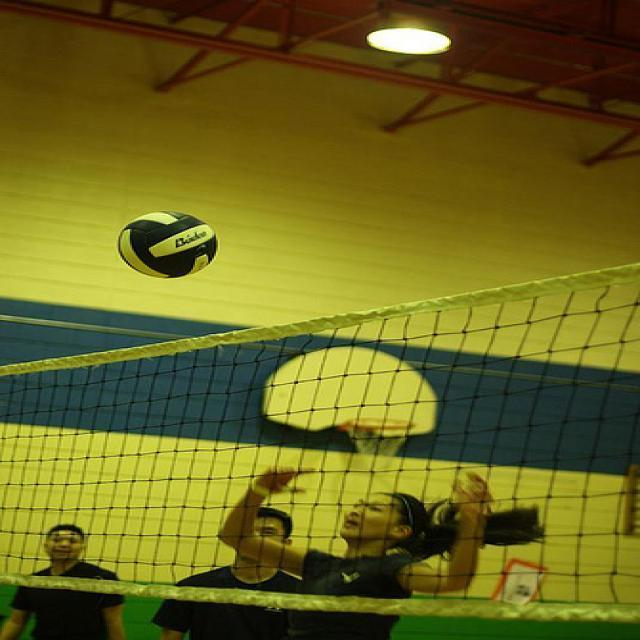volleyball: (118, 210, 216, 278)
